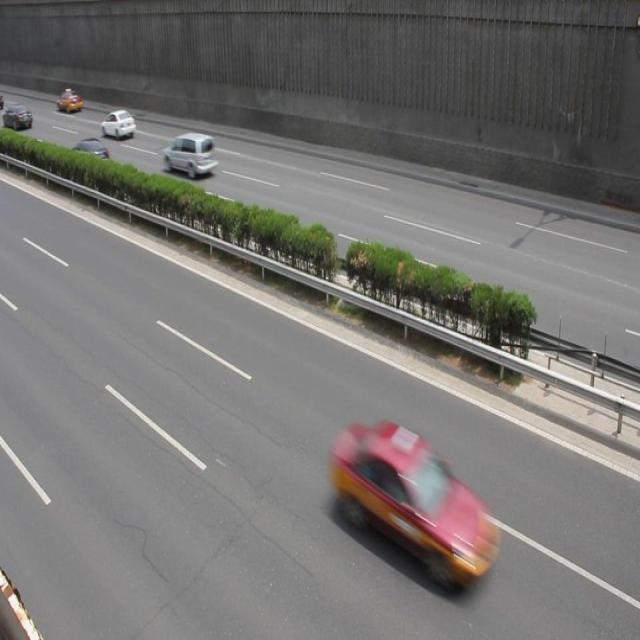car: (333, 420, 504, 590), (68, 138, 111, 180), (102, 110, 136, 139), (57, 89, 83, 114)
truck: (165, 132, 217, 180)
